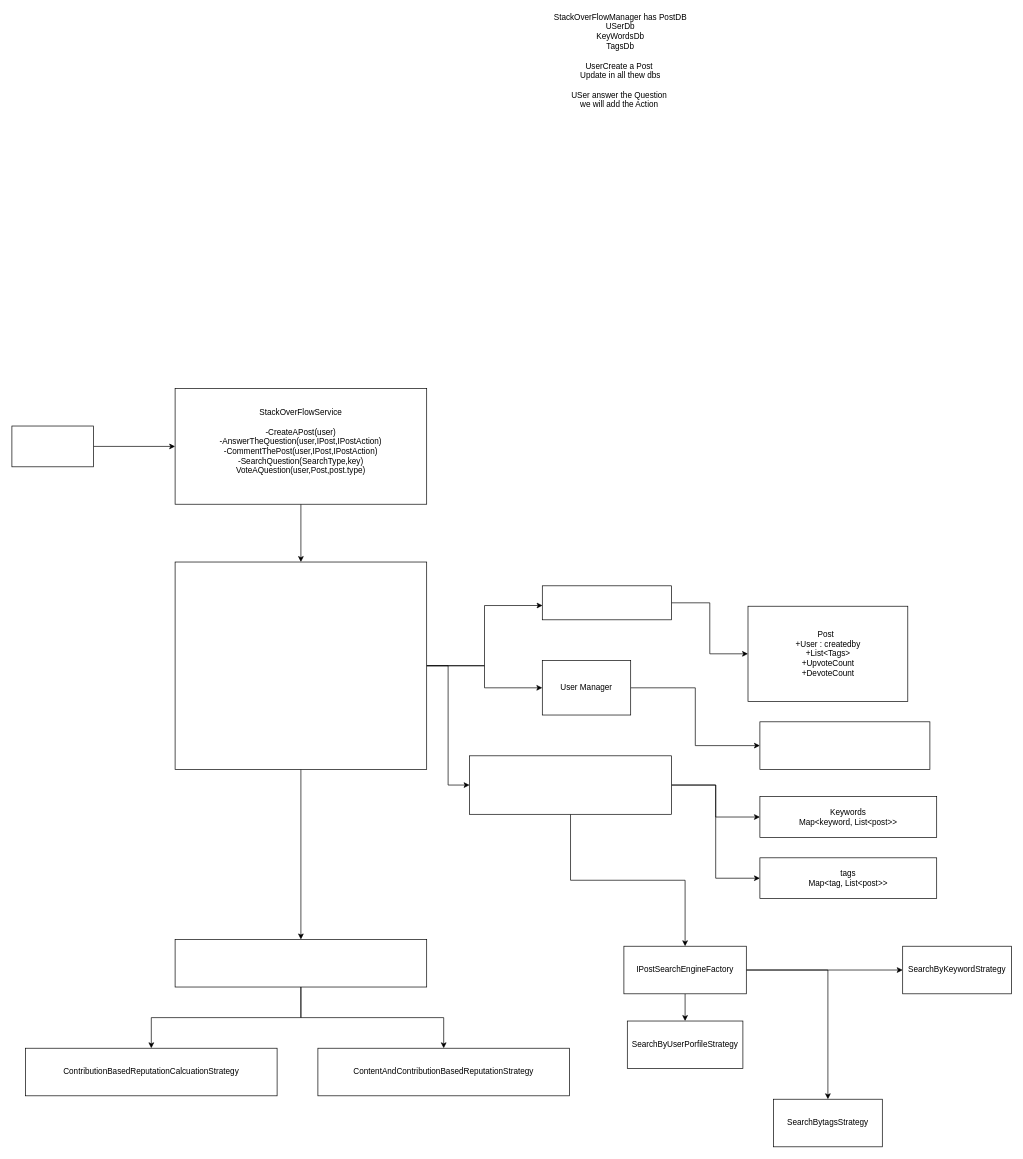
This 1023x1159 diagram has some shape labels left out. The centre of each missing label's shape, as x and y in pixels:
"IReputationCalcuationStrategy" goes at (x=300, y=963).
"Post Mananger" goes at (x=607, y=602).
"Request" goes at (x=52, y=446).
"SearchManager + IPostSearchEngineFactory" goes at (x=570, y=784).
"StackOverFlowManager +UserManager +PostManager +SearchManager" goes at (x=300, y=665).
"User + userId +PostCounts +List<Post> +Reputation" goes at (x=844, y=745).
